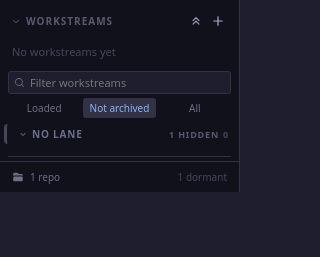
Test case: archive cleanup in the unified list › shows cleanup progress while a worktree is being removed
Click the button with test id "ws-list-filter-all" at (195, 108), box x1=159 y1=98 x2=231 y2=118
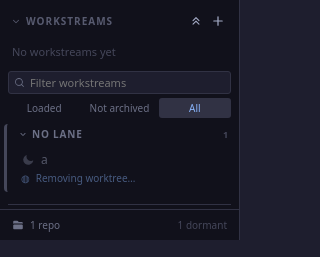
Expected: the element with test id "ws-archiving-a" is shown, x1=21 y1=171 x2=136 y2=185
